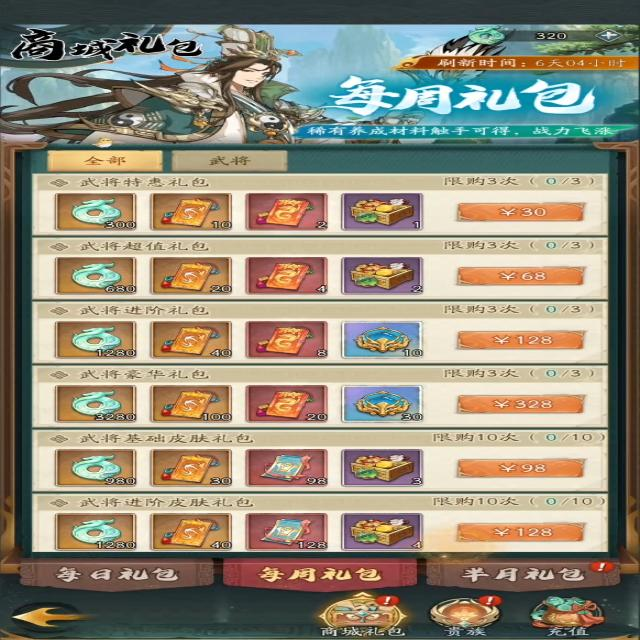hint-reddot: (476, 593, 506, 610), (586, 560, 616, 574), (376, 595, 401, 607)
operation-DailyGiftPack: (17, 560, 215, 593)
operation-HalfMonthGiftPack: (423, 558, 621, 592)
operation-WeeklyGiftPack: (224, 557, 416, 592)
operation-back: (6, 600, 91, 632)
operation-buy: (450, 456, 590, 480), (452, 200, 592, 223), (455, 394, 588, 414), (455, 266, 586, 286), (456, 331, 588, 350), (456, 523, 586, 542)
ref-buytext: (38, 494, 261, 510), (42, 302, 220, 321), (44, 431, 266, 446), (40, 239, 238, 254), (42, 366, 215, 381), (39, 176, 217, 189)
